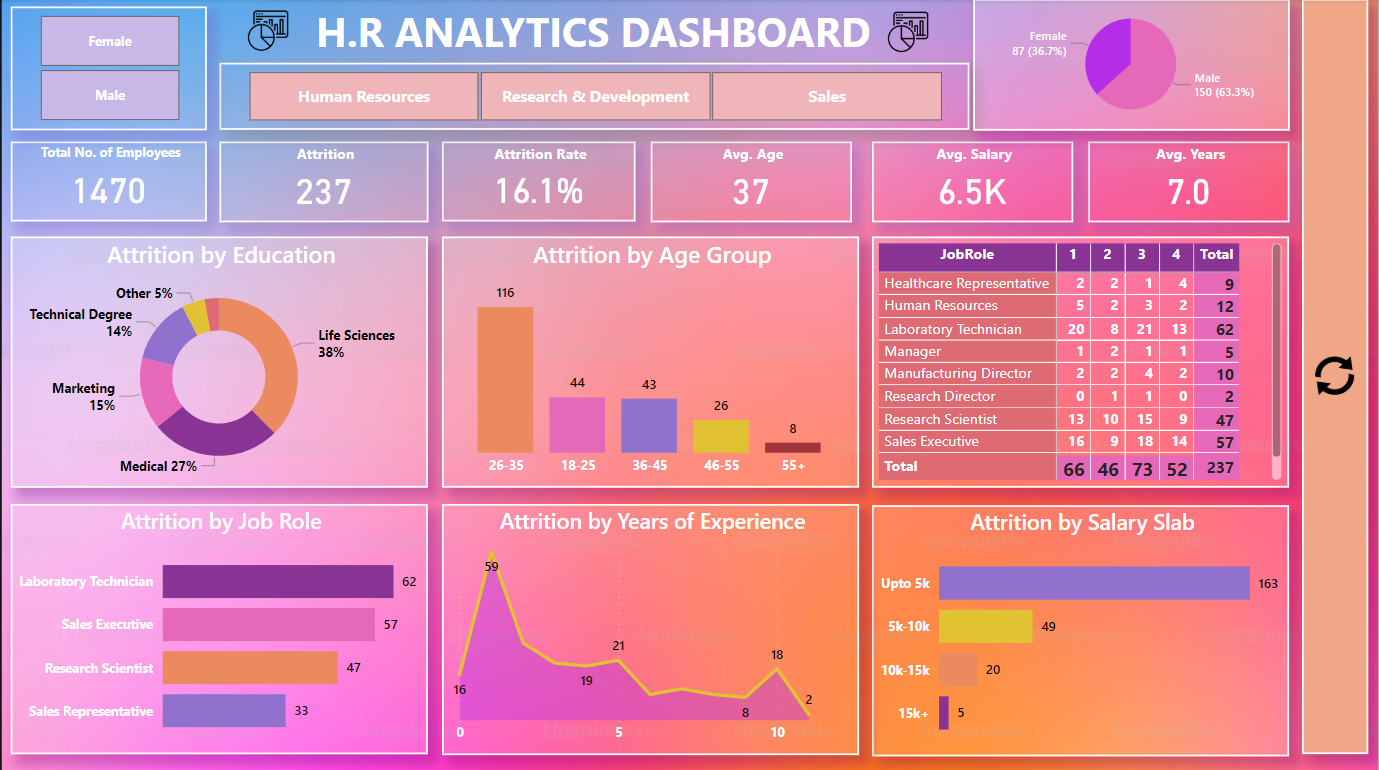

The dashboard page shown, as its layout file describes it:
{"tool":"powerbi","page":{"name":"Page 1","canvas":[1280,720],"ordinal":0},"visuals":[{"type":"card","title":"Total No. of Employees","fields":{"Values":["CountNonNull(HR_Analytics.EmpID)"]},"box":[8.1,132.6,182.6,74.4],"z":0},{"type":"card","title":"Avg. Age","fields":{"Values":["Avg(HR_Analytics.Age)"]},"box":[603.5,132.6,187.2,75.6],"z":1},{"type":"card","title":"Attrition Rate","fields":{"Values":["HR_Analytics.Attrition Rate"]},"box":[409.3,132.6,180.2,74.4],"z":2},{"type":"card","title":"Attrition","fields":{"Values":["Sum(HR_Analytics.Attrition Count)"]},"box":[202.3,132.6,194.2,75.6],"z":3},{"type":"card","title":"Avg. Years","fields":{"Values":["Avg(HR_Analytics.YearsAtCompany)"]},"box":[1010.5,132.6,187.2,75.6],"z":5},{"type":"card","title":"Avg. Salary","fields":{"Values":["Avg(HR_Analytics.MonthlyIncome)"]},"box":[809.3,132.6,187.2,75.6],"z":6},{"type":"donutChart","title":"Attrition by Education","fields":{"Category":["HR_Analytics.EducationField"],"Y":["Sum(HR_Analytics.Attrition Count)"]},"box":[8.1,220.9,388.4,233.7],"z":8},{"type":"columnChart","title":"Attrition by Age Group","fields":{"Category":["HR_Analytics.AgeGroup"],"Y":["Sum(HR_Analytics.Attrition Count)"]},"box":[409.3,220.9,388.4,233.7],"z":9},{"type":"pivotTable","title":"Attrition by Age Group","fields":{"Rows":["HR_Analytics.JobRole"],"Columns":["HR_Analytics.JobSatisfaction"],"Values":["Sum(HR_Analytics.Attrition Count)"]},"box":[809.3,220.9,388.4,233.7],"z":10},{"type":"clusteredBarChart","title":"Attrition by Job Role","fields":{"Category":["HR_Analytics.JobRole"],"Y":["Sum(HR_Analytics.Attrition Count)"]},"box":[8.1,469.8,388.4,232.6],"z":11},{"type":"clusteredBarChart","title":"Attrition by Salary Slab","fields":{"Category":["HR_Analytics.SalarySlab"],"Y":["Sum(HR_Analytics.Attrition Count)"]},"box":[809.3,470.9,388.4,233.7],"z":12},{"type":"areaChart","title":"Attrition by Years of Experience","fields":{"Category":["HR_Analytics.YearsAtCompany"],"Y":["Sum(HR_Analytics.Attrition Count)"]},"box":[409.3,469.8,388.4,233.7],"z":13},{"type":"slicer","fields":{"Values":["HR_Analytics.Department"]},"box":[202.3,59.3,697.7,62.8],"z":14},{"type":"pieChart","title":"Attrition by Age Group","fields":{"Category":["HR_Analytics.Gender"],"Y":["Sum(HR_Analytics.Attrition Count)"]},"box":[903.5,0,294.2,122.1],"z":15},{"type":"textbox","box":[200,0,700,59.3],"z":16},{"type":"image","box":[202.3,5.8,90.7,47.7],"z":17},{"type":"image","box":[797.7,7,90.7,47.7],"z":18},{"type":"image","box":[1209.3,0,61.6,702.3],"z":19},{"type":"slicer","title":"Total No. of Employees","fields":{"Values":["HR_Analytics.Gender"]},"box":[8.1,7,182.6,115.1],"z":20}]}

Visuals, with their boxes in screenshot pixels (x1, y1, x2, y2), scaled from the page's 1280x720 canvas onto the 1379x770 screenshot:
"Total No. of Employees" card: box=[9, 142, 205, 221]
"Avg. Age" card: box=[650, 142, 852, 223]
"Attrition Rate" card: box=[441, 142, 635, 221]
"Attrition" card: box=[218, 142, 427, 223]
"Avg. Years" card: box=[1089, 142, 1290, 223]
"Avg. Salary" card: box=[872, 142, 1074, 223]
"Attrition by Education" donutChart: box=[9, 236, 427, 486]
"Attrition by Age Group" columnChart: box=[441, 236, 859, 486]
"Attrition by Age Group" pivotTable: box=[872, 236, 1290, 486]
"Attrition by Job Role" clusteredBarChart: box=[9, 502, 427, 751]
"Attrition by Salary Slab" clusteredBarChart: box=[872, 504, 1290, 754]
"Attrition by Years of Experience" areaChart: box=[441, 502, 859, 752]
slicer - HR_Analytics.Department: box=[218, 63, 970, 131]
"Attrition by Age Group" pieChart: box=[973, 0, 1290, 131]
textbox: box=[215, 0, 970, 63]
image: box=[218, 6, 316, 57]
image: box=[859, 7, 957, 58]
image: box=[1303, 0, 1369, 751]
"Total No. of Employees" slicer: box=[9, 7, 205, 131]
